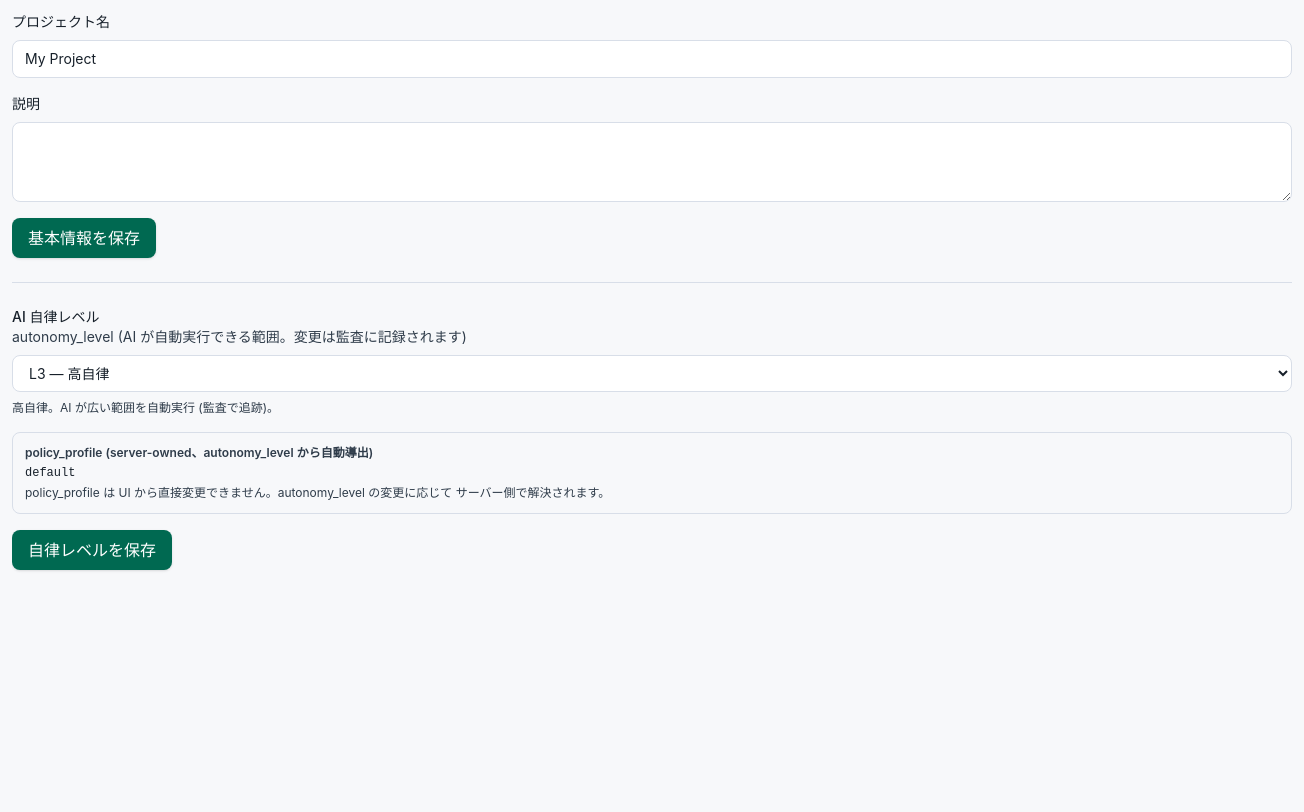
ProjectSettingsForm autonomy dirty guard (M-3 / ADR-00035, Codex R6 HIGH) › does not submit autonomy_level when the selector was not changed
Click the button "自律レベルを保存".
click(92, 550)  # box [12,530,172,570]
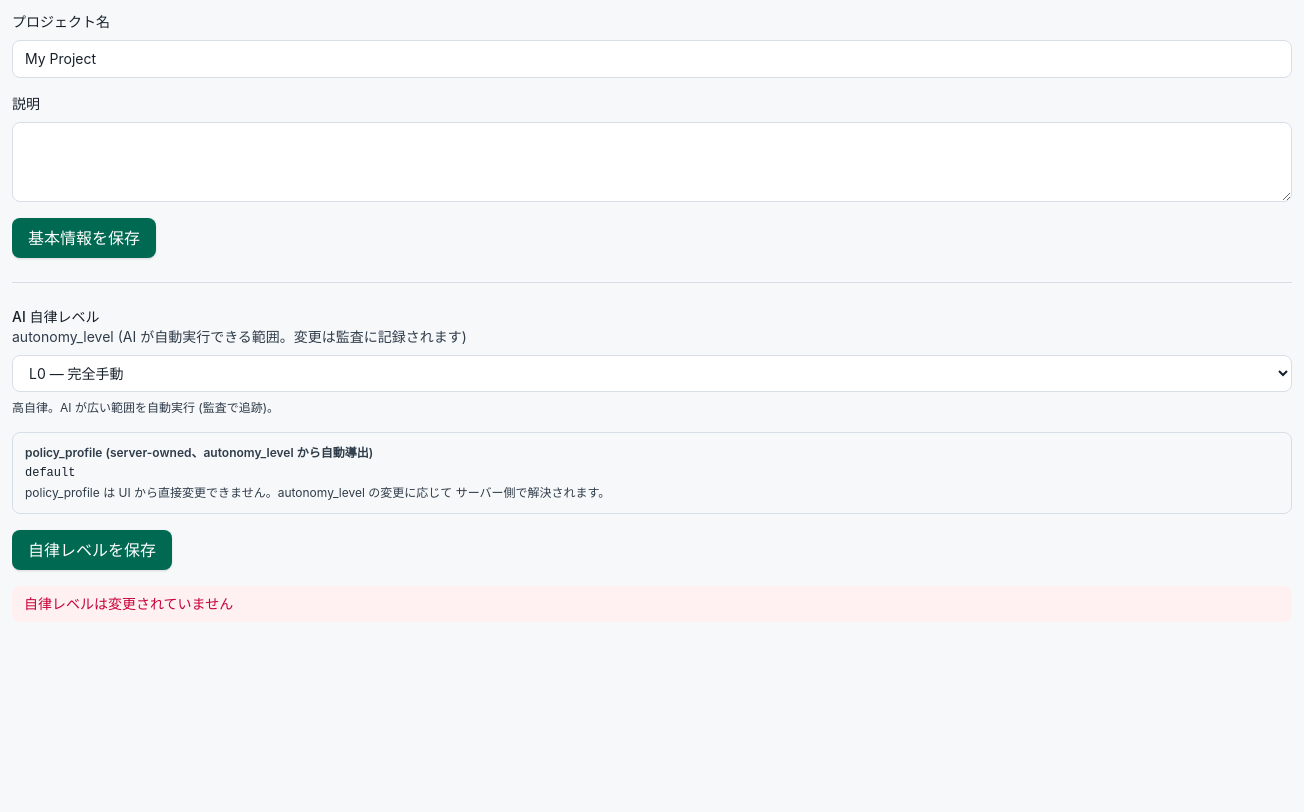
Check: the text "自律レベルは変更されていません" is shown, box [12,586,1292,622]
